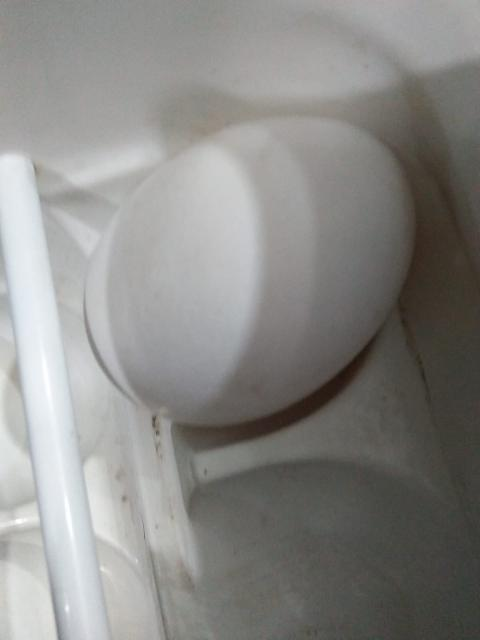Sano: (84, 114, 413, 425)
